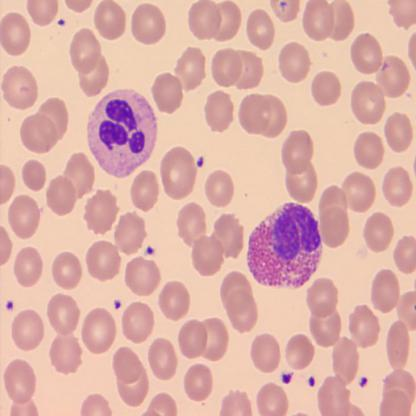Eosinophil: (245, 203, 320, 288)
